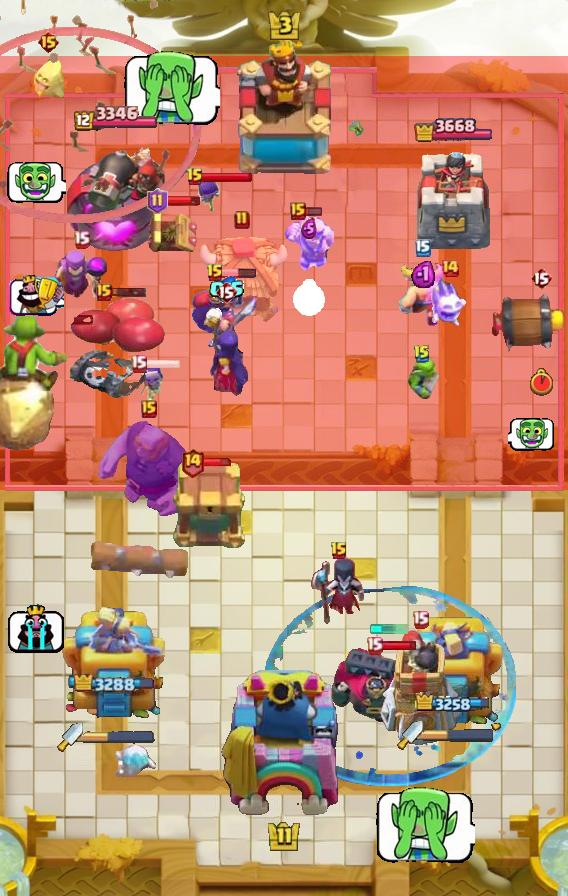arrows: (284, 214, 334, 273)
axe: (202, 305, 250, 395)
balloon: (95, 419, 203, 519)
bar: (60, 607, 168, 731), (401, 611, 505, 731)
bat: (112, 742, 158, 777)
bat-evolution: (30, 58, 66, 100)
bomb: (168, 462, 246, 550)
electro-spirit: (209, 277, 245, 304), (411, 260, 435, 289), (301, 217, 317, 238)
elixir: (293, 279, 325, 316), (530, 368, 553, 396)
elixir-golem-big: (188, 276, 266, 350)
emote: (201, 171, 253, 183), (109, 286, 146, 298), (143, 358, 180, 370), (165, 195, 201, 207), (221, 267, 257, 279), (381, 640, 418, 651), (202, 457, 234, 467), (304, 206, 324, 217)
goblin: (136, 363, 166, 405), (193, 174, 223, 214)
goblin-brawler: (145, 206, 199, 256)
goblin-giant: (398, 261, 450, 327)
ice-spirit: (369, 624, 409, 634)
inferno-tower: (331, 646, 447, 724)
king-tower: (219, 670, 349, 826), (228, 41, 340, 181)
king-tower-bar: (423, 728, 495, 742), (83, 730, 155, 744)
minion: (87, 538, 189, 578)
mirror: (430, 278, 470, 328)
pad_0: (262, 584, 516, 786)
prince: (195, 235, 289, 325)
queen-tower: (410, 144, 496, 255)
rascal-boy: (310, 556, 368, 626)
rascal-girl: (51, 247, 111, 301)
royal-recruit-evolution: (66, 296, 168, 404)
selected: (414, 114, 492, 145), (71, 107, 157, 134), (416, 692, 493, 715), (74, 673, 154, 695)
skeleton: (375, 784, 475, 864), (123, 48, 221, 126), (7, 602, 65, 655), (6, 160, 66, 204), (8, 274, 64, 317), (509, 417, 556, 451)
skeleton-barrel: (0, 0, 200, 224)
text: (179, 447, 204, 477), (147, 188, 169, 214), (36, 30, 59, 54), (530, 266, 552, 290), (215, 280, 237, 304), (440, 258, 460, 278), (186, 167, 204, 187), (206, 263, 224, 283), (413, 344, 431, 364), (330, 541, 348, 561), (73, 231, 91, 249), (412, 610, 429, 629), (234, 210, 250, 230), (130, 355, 147, 373), (366, 637, 383, 655), (290, 202, 306, 220), (415, 239, 431, 257), (96, 283, 112, 301), (141, 400, 157, 418)
the-log: (488, 292, 568, 352)
tower-bar: (63, 136, 165, 256)
x-bow: (0, 316, 71, 454)
zap: (402, 356, 442, 400)
zappy: (378, 628, 463, 750)
